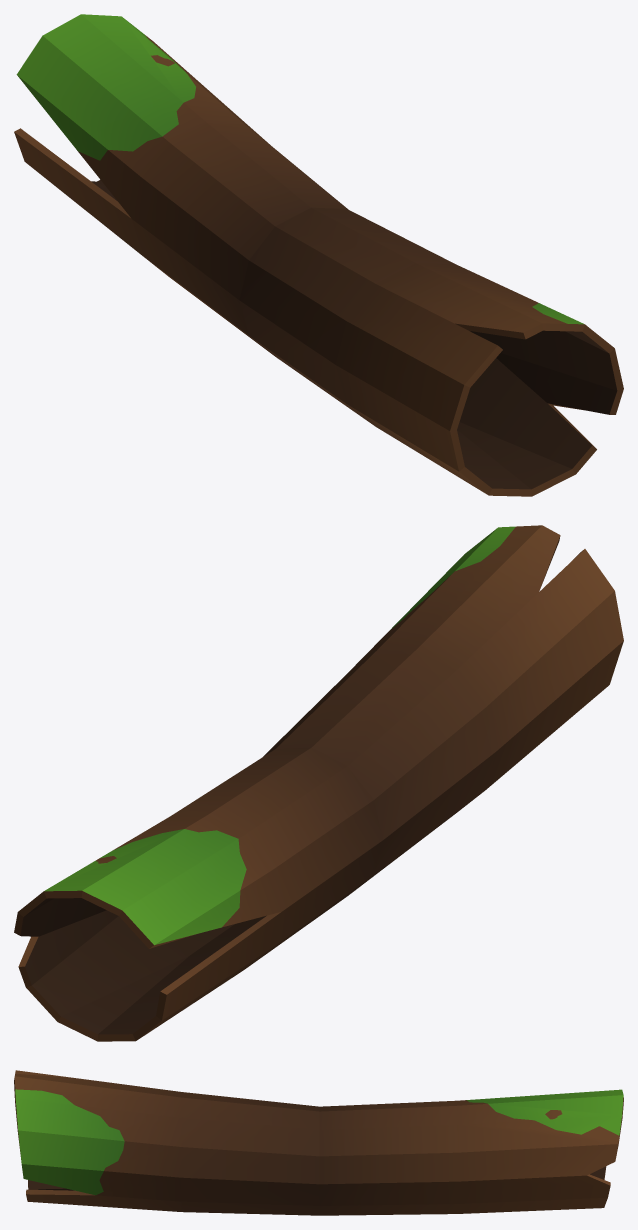
File: log.fbx
3 renders of one model, top to bottom at view 1: azimuth 30°, elevation 25°; view 2: azimuth 150°, elevation 25°; view 3: azimuth 270°, elevation 25°, orthographic. The views are drawn at different scales.
Parts seen in each view (by area): view 1: log; view 2: log; view 3: log.
Boxes of the visible parts, bbox=[...] form: log: bbox=[14, 14, 623, 496]; log: bbox=[14, 525, 623, 1041]; log: bbox=[14, 1070, 623, 1215].
Size of the model in its own units: 0.9429 by 1.06 by 4.34.
